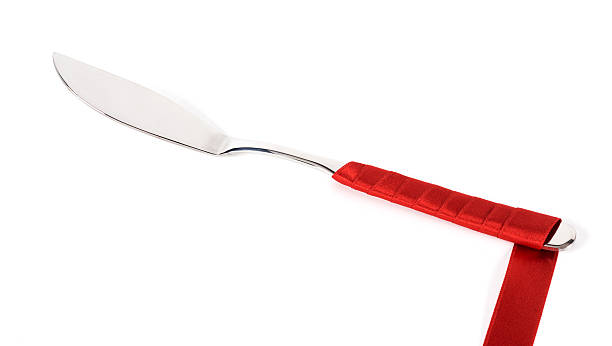knife: (51, 50, 579, 251)
